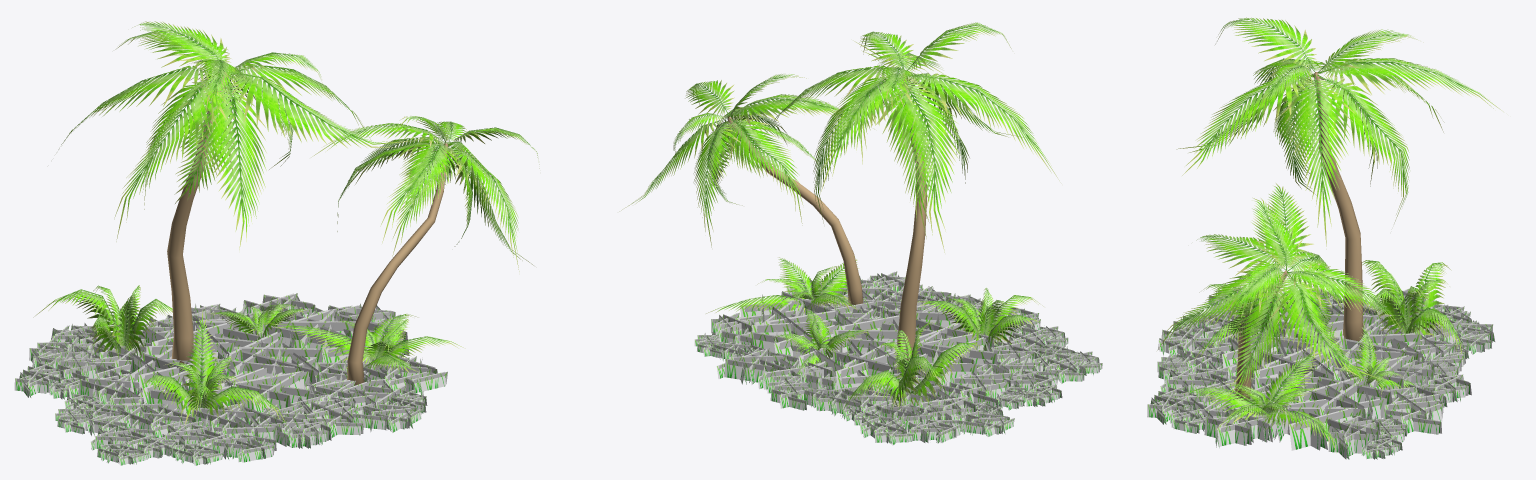
Rendered from palmtree_composition.fbx.
3 views of the same model, side by side, from view 1: azimuth 30°, elevation 25°; view 2: azimuth 150°, elevation 25°; view 3: azimuth 270°, elevation 25° (orthographic). The views are drawn at different scales.
Parts seen in each view (by area): view 1: Circle.004; view 2: Circle.004; view 3: Circle.004.
Part boxes in pixels (x1,y1,x2,y2): Circle.004: (14, 21, 539, 465); Circle.004: (619, 22, 1102, 445); Circle.004: (1147, 17, 1503, 459).
Bounding box in the file's own units: 1270 × 1005 × 950.
